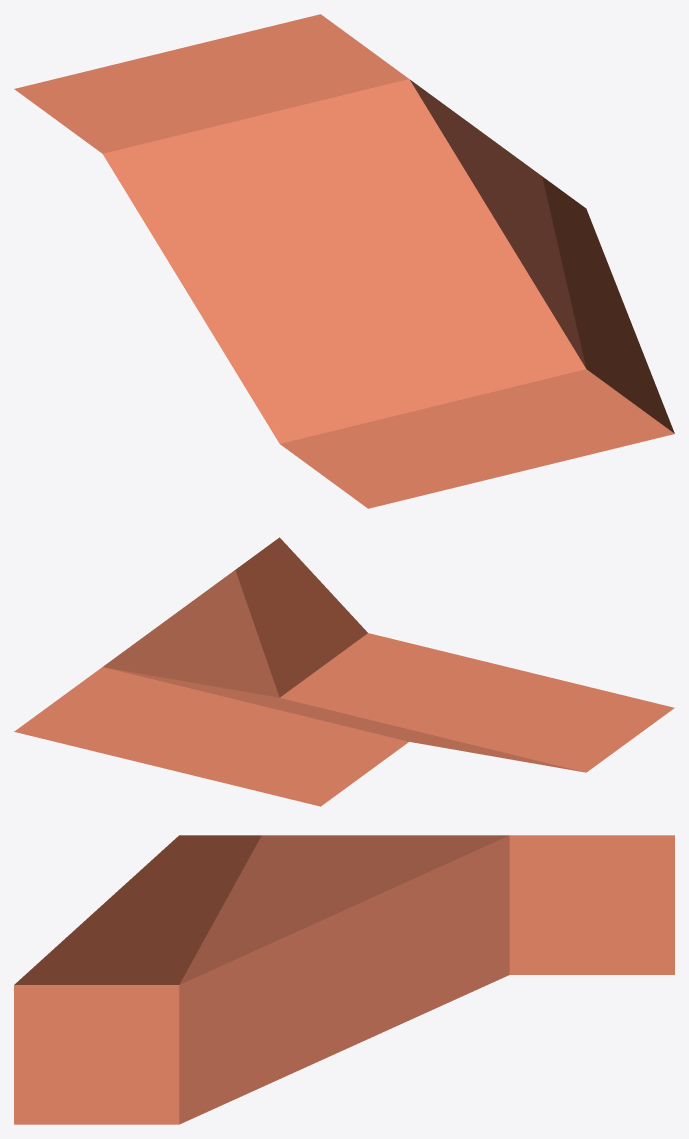
The model's file is terrain_rampLarge_detailed.glb.
3 views of the same model, one above another, from view 1: azimuth 30°, elevation 25°; view 2: azimuth 150°, elevation 25°; view 3: azimuth 270°, elevation 25° (orthographic). The views are drawn at different scales.
Visible parts, largest first — view 1: terrain_rampLarge_detailed; view 2: terrain_rampLarge_detailed; view 3: terrain_rampLarge_detailed.
Boxes of the visible parts, x1,y1,x2,y2 form: terrain_rampLarge_detailed: (14,14,674,508); terrain_rampLarge_detailed: (14,537,674,806); terrain_rampLarge_detailed: (14,835,674,1124).
Bounding box in the file's own units: 1 × 0.5 × 2.
